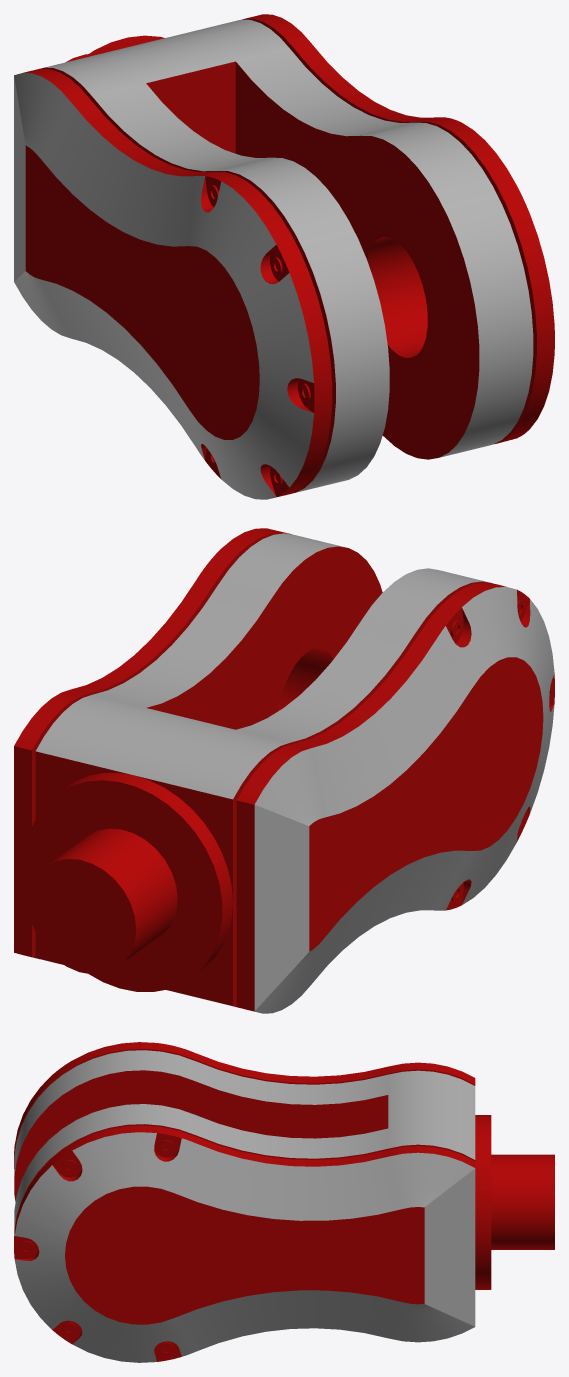
Rendered from Join_Coupling.glb.
3 views of the same model, one above another, from view 1: azimuth 30°, elevation 25°; view 2: azimuth 150°, elevation 25°; view 3: azimuth 270°, elevation 25° (orthographic). The views are drawn at different scales.
Visible parts, largest first — view 1: Solid1.004; view 2: Solid1.004; view 3: Solid1.004.
Boxes of the visible parts, x1=… form: Solid1.004: x1=14, y1=14, x2=554, y2=499; Solid1.004: x1=14, y1=528, x2=554, y2=1013; Solid1.004: x1=14, y1=1042, x2=554, y2=1362.
Bounding box in the file's own units: 0.079 × 0.08 × 0.17.
